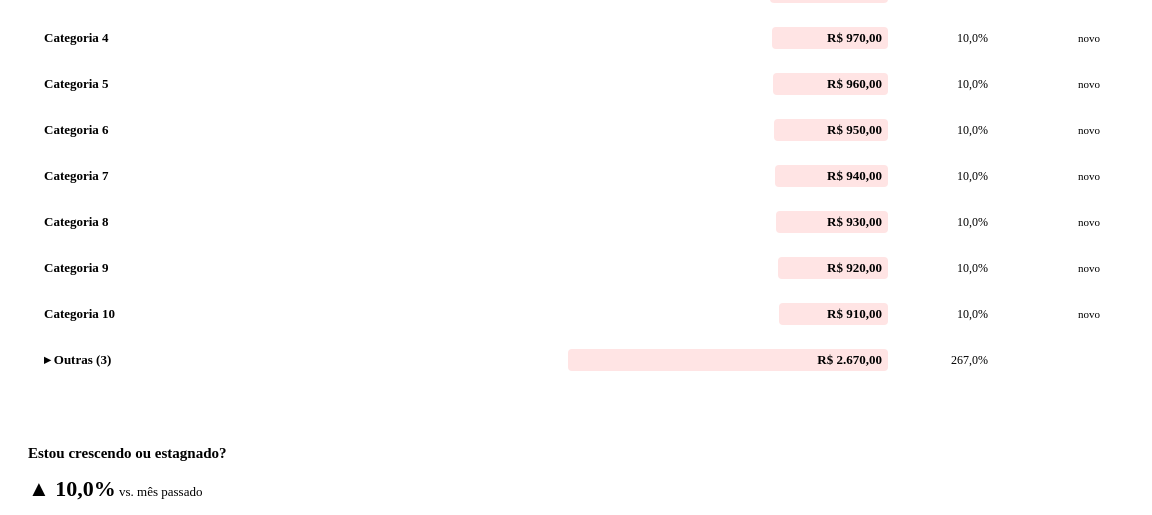
Scenario: ranking com mais de 10 categorias agrupa o resto em "Outras (N)" e expande ao clicar
This screenshot has width=1152, height=515.
(page scrolled)
Expected: the text "Categoria 11" is not shown
Expected: the text "Categoria 13" is not shown
Click the text "▸ Outras (3)" at (78, 360), box 44,352 -> 111,367
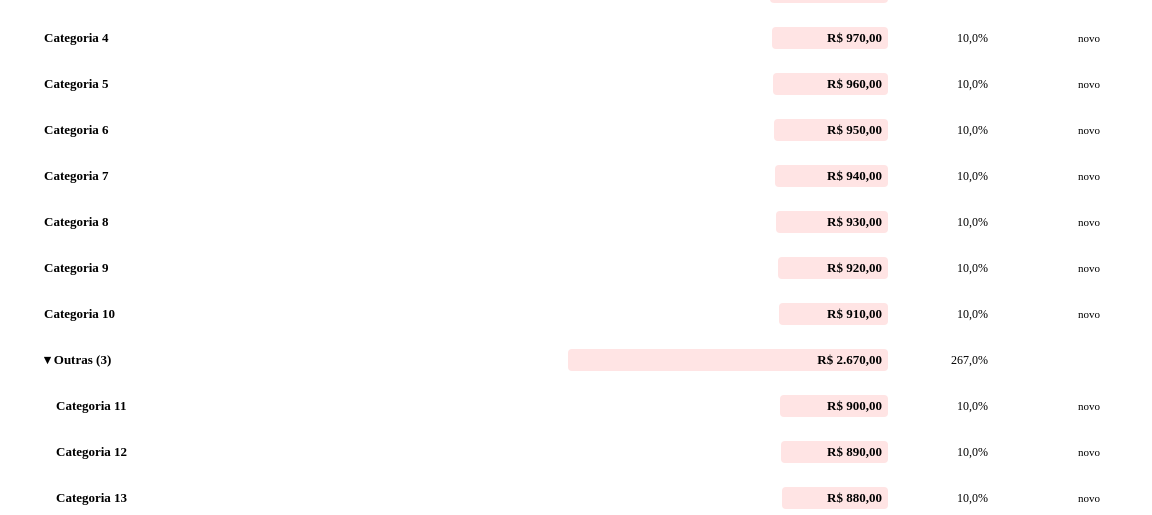
Result: the text "Categoria 11" is shown at 56,398 -> 126,413
Result: the text "Categoria 13" is shown at 56,490 -> 127,505
Result: the text "▾ Outras (3)" is shown at 44,352 -> 111,367
